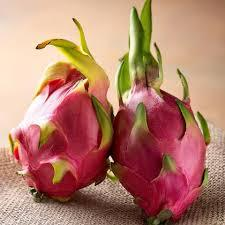dragon fruit: (109, 0, 210, 224), (7, 17, 114, 203)
